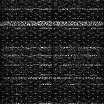lte: (1, 20, 104, 26), (1, 45, 104, 49), (1, 62, 104, 66), (1, 76, 104, 80)
